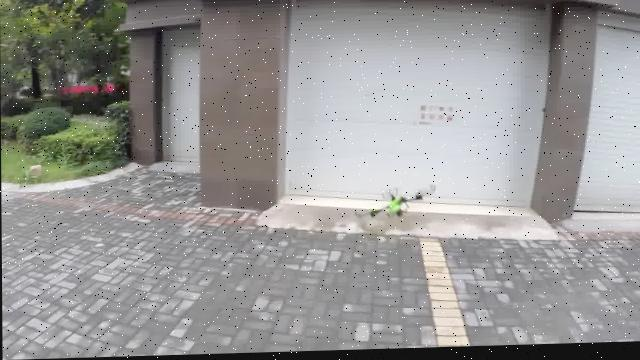drone: (344, 184, 440, 238)
